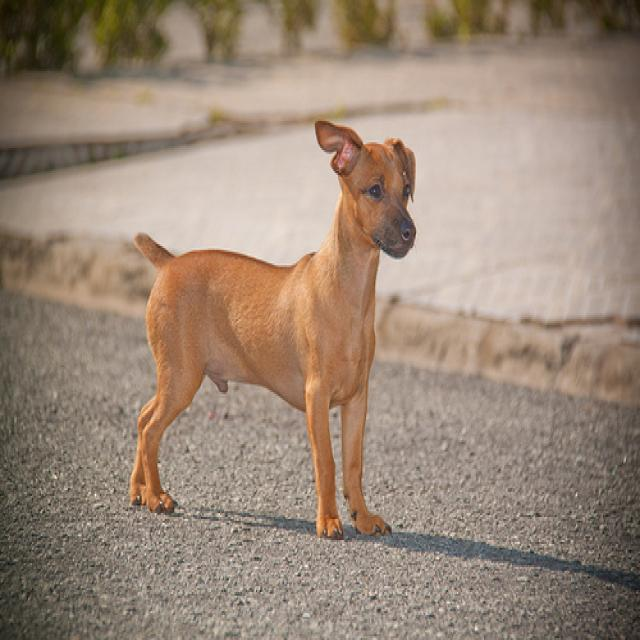dog-miniature_pinscher: (123, 115, 421, 550)
